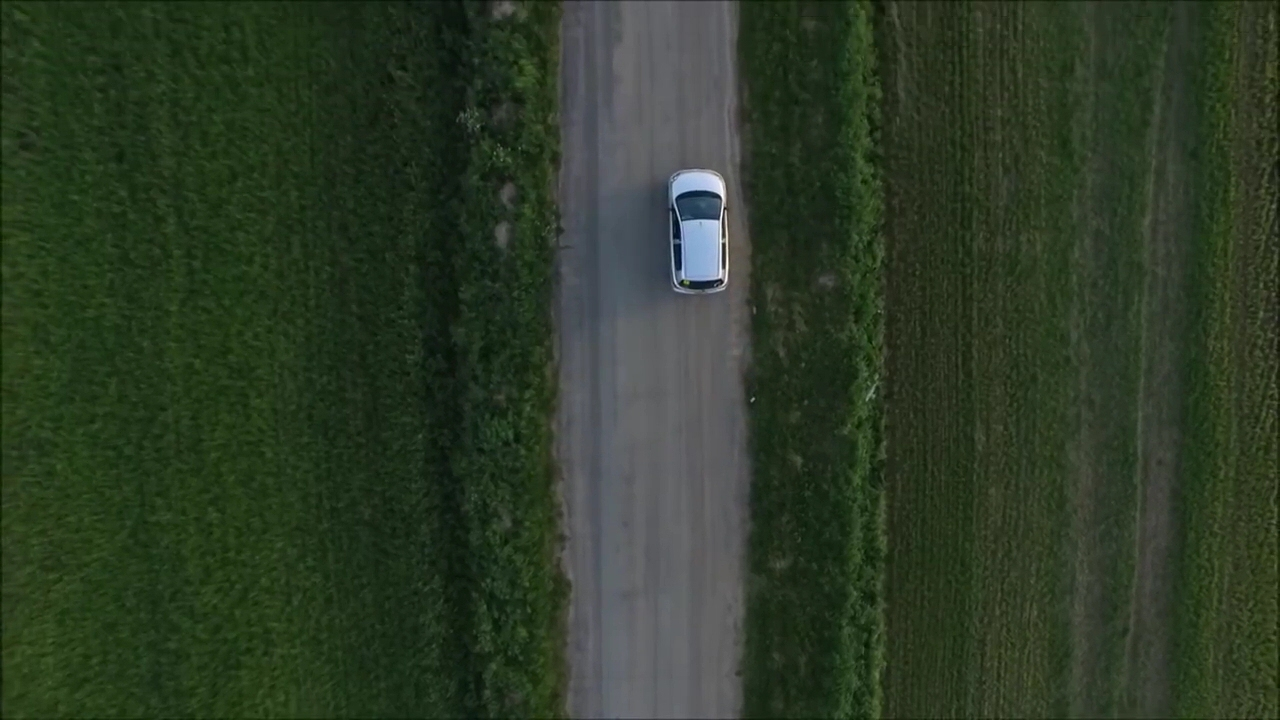araba: (665, 166, 732, 296)
